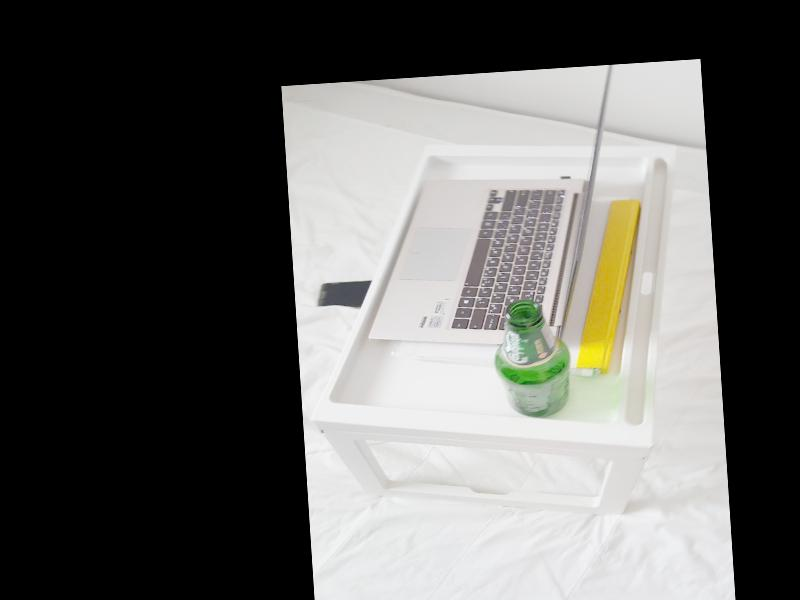Beer: (492, 297, 573, 420)
